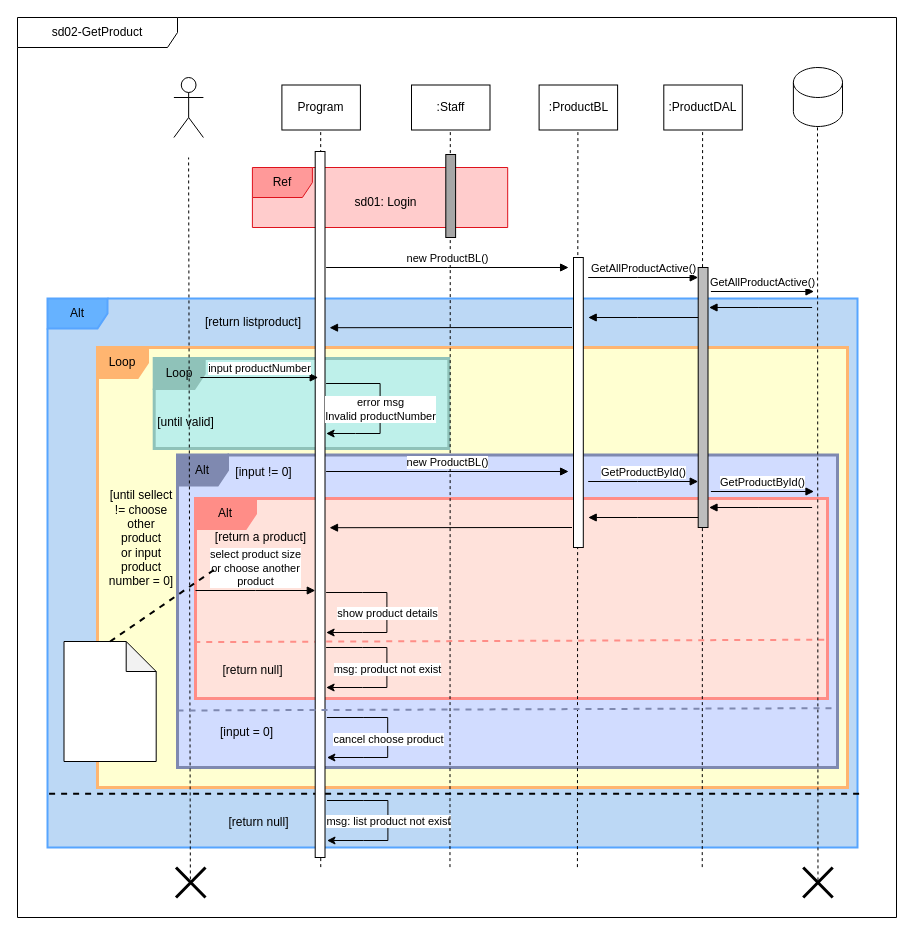
Image size: 914x935. Some labels were removed from this diagram. Each missing label, with the centre of its shape:
"DB" belongs at (x=817, y=96).
"sellect size S, M, L or choose another product" belongs at (x=109, y=701).
"User" belongs at (x=188, y=107).
